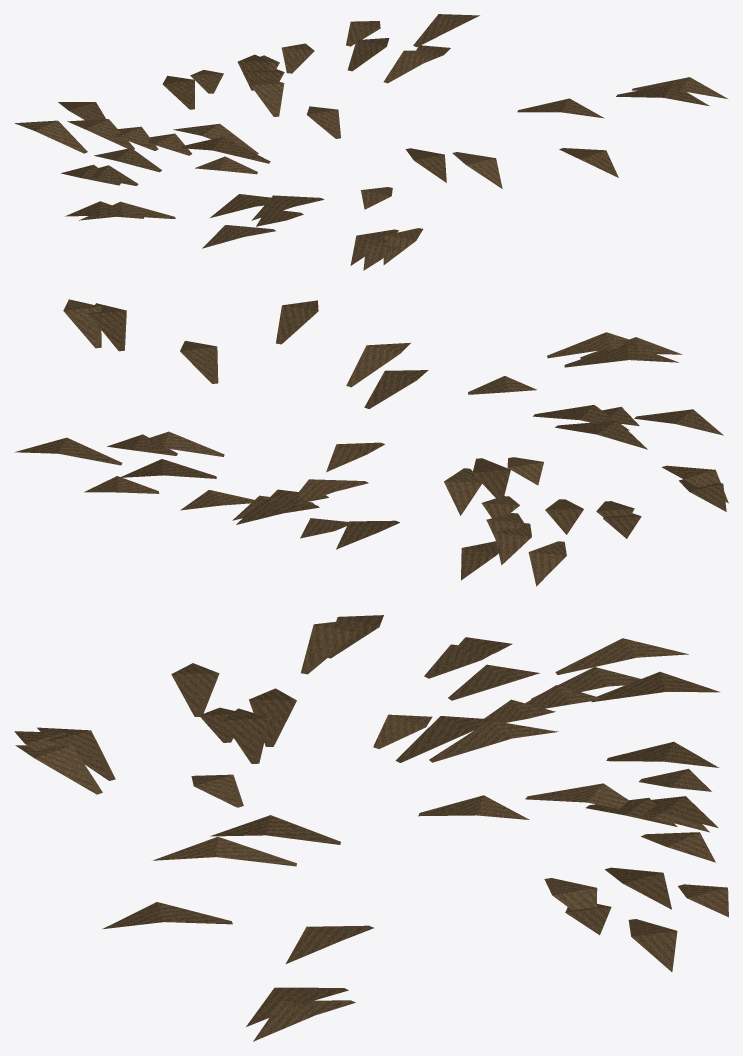
Rendered from env_ground_09_leaves_dense.glb.
3 views of the same model, one above another, from view 1: azimuth 30°, elevation 25°; view 2: azimuth 150°, elevation 25°; view 3: azimuth 270°, elevation 25° (orthographic). The views are drawn at different scales.
Parts seen in each view (by area): view 1: foliage; view 2: foliage; view 3: foliage.
Boxes of the visible parts, x1,y1,x2,y2 form: foliage: [15, 14, 728, 270]; foliage: [14, 299, 728, 586]; foliage: [14, 615, 728, 1041].
Size of the model in its own units: 1.04 by 0.0192 by 0.738.
1 material, 1 textured.
